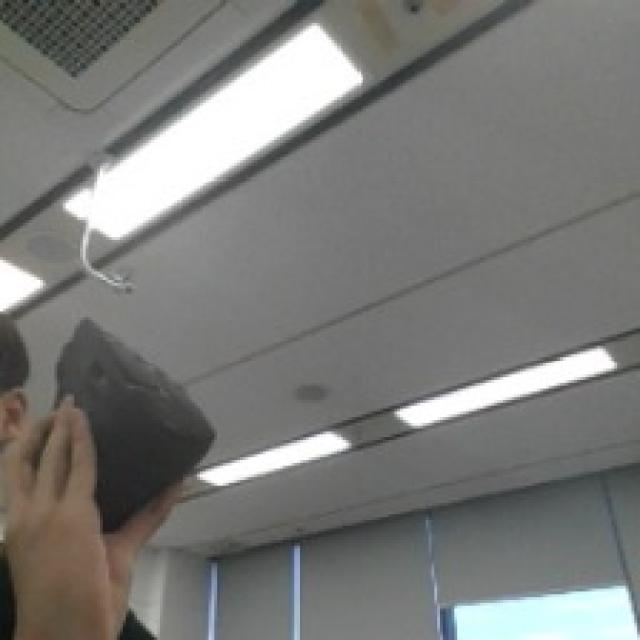shoe: (53, 311, 219, 504)
